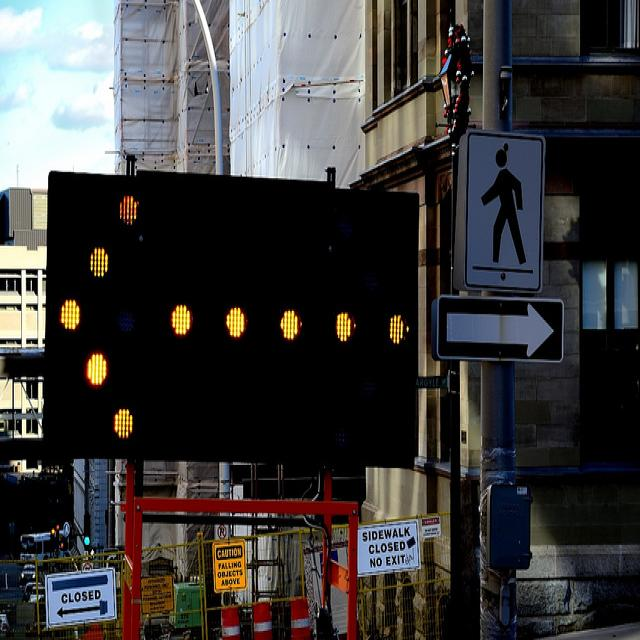Vehicle: (18, 564, 36, 587), (22, 582, 36, 602), (30, 586, 45, 603)
